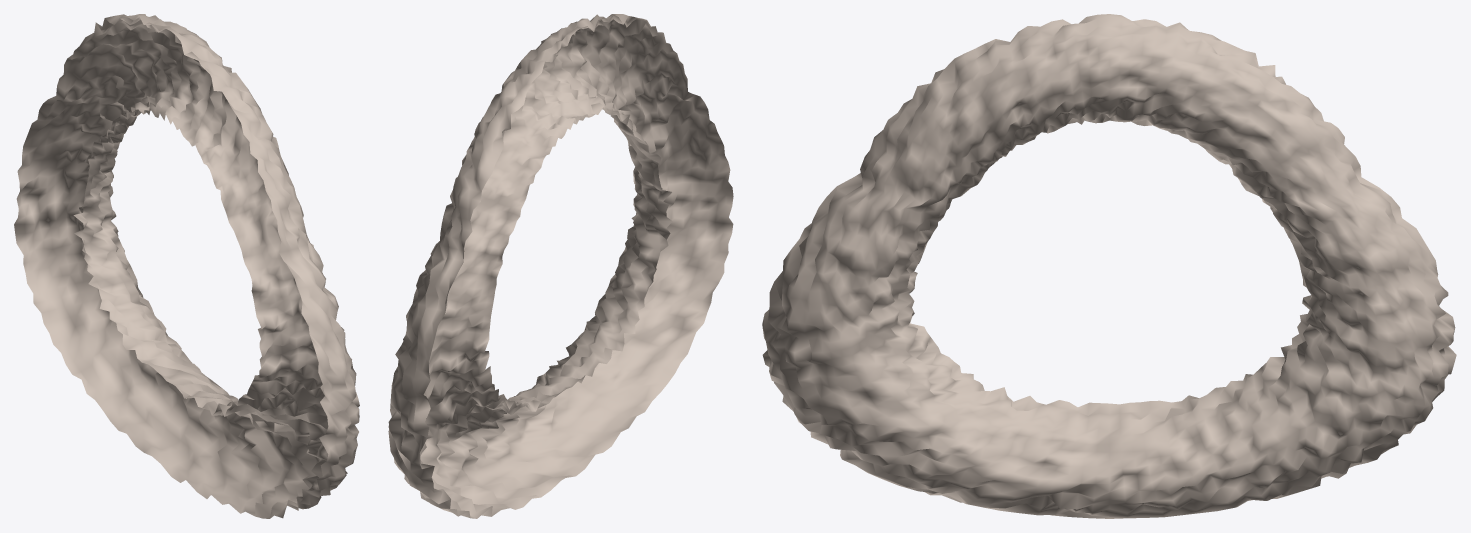
File: rock_natural_bridge_medium.glb
3 renders of one model, left to right at view 1: azimuth 30°, elevation 25°; view 2: azimuth 150°, elevation 25°; view 3: azimuth 270°, elevation 25°, orthographic. The views are drawn at different scales.
Parts seen in each view (by area): view 1: NaturalBridge_medium; view 2: NaturalBridge_medium; view 3: NaturalBridge_medium.
Boxes of the visible parts, x1,y1,x2,y2 form: NaturalBridge_medium: (14,14,359,518); NaturalBridge_medium: (388,14,733,518); NaturalBridge_medium: (762,14,1456,518).
Size of the model in its own units: 25.7 by 152 by 194.
